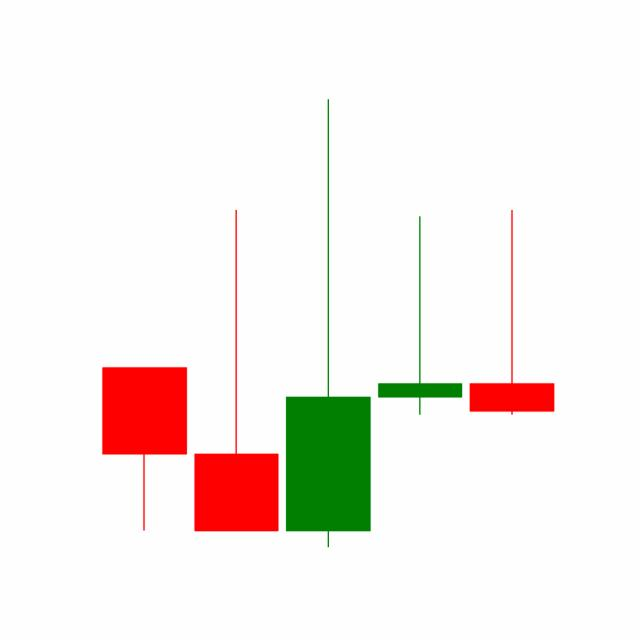Spinning Top: (373, 212, 467, 416)
